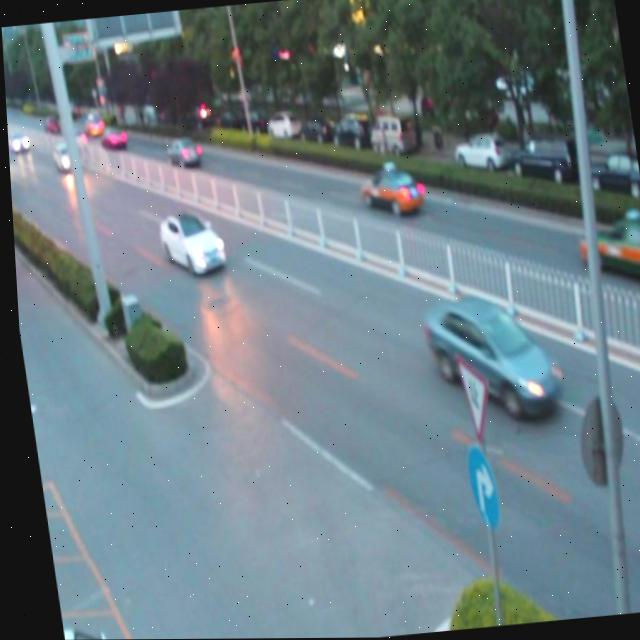car: (417, 295, 557, 423), (569, 214, 640, 292), (155, 211, 222, 274), (358, 168, 420, 217), (54, 615, 171, 640), (161, 137, 200, 166)
